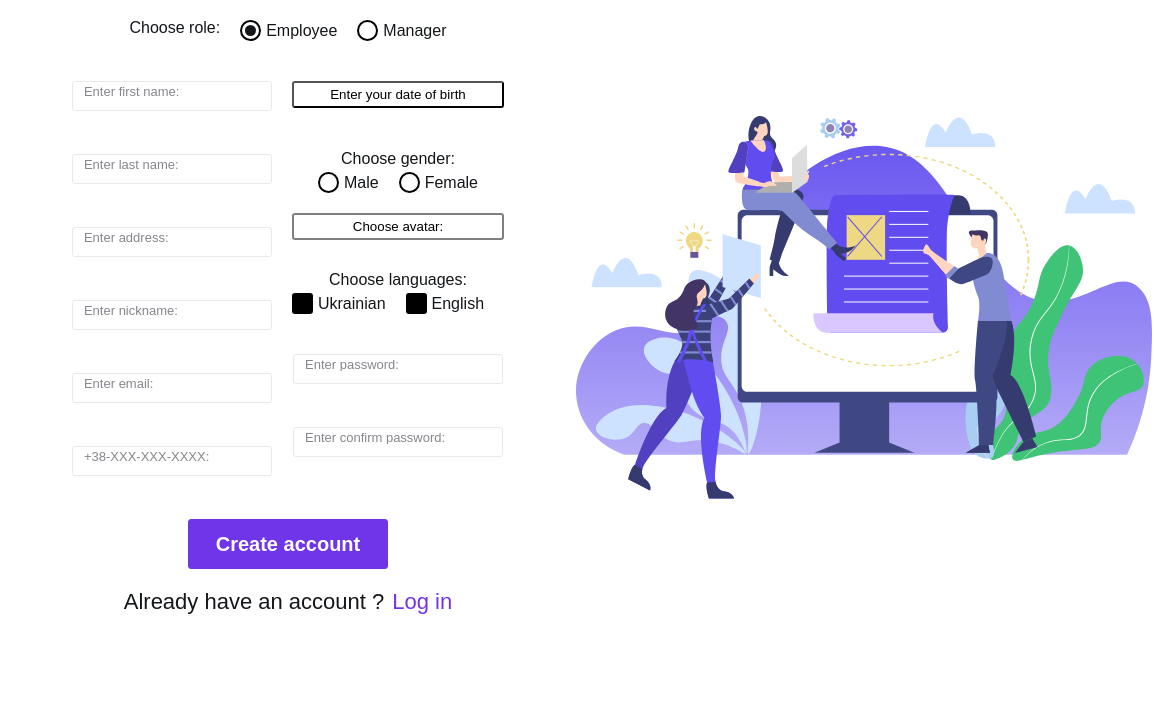
Test case: Register page tests › should show error message if fields are empty
What coordinates should you click on to do the following:
click the button "Create account"
I would click on:
 (288, 544)
Its box is [188, 519, 388, 569].
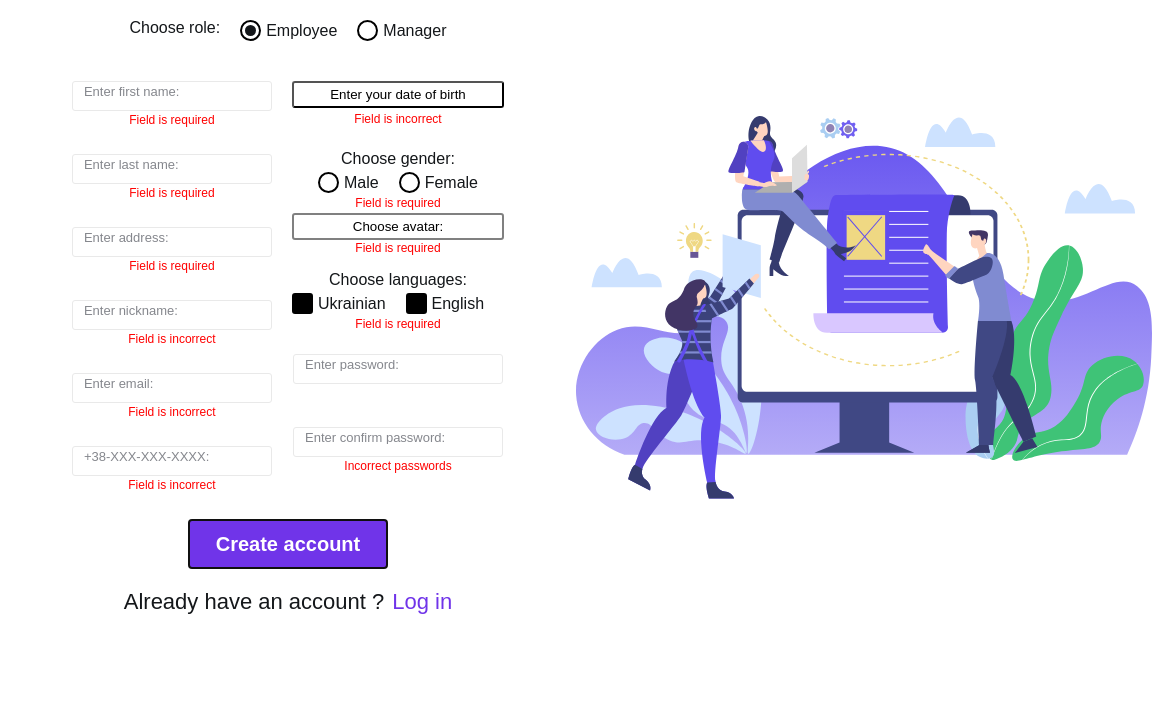
Check: the text "Field is required" is shown 6 times, box [129, 113, 215, 127]; [129, 186, 215, 200]; [129, 259, 215, 273]; [355, 196, 441, 210]; [355, 241, 441, 255]; [355, 317, 441, 331]
Check: the text "Field is incorrect" is shown 4 times, box [128, 332, 216, 346]; [128, 405, 216, 419]; [128, 478, 216, 492]; [354, 112, 442, 126]
Check: the text "Incorrect passwords" is shown, box [344, 459, 452, 473]
